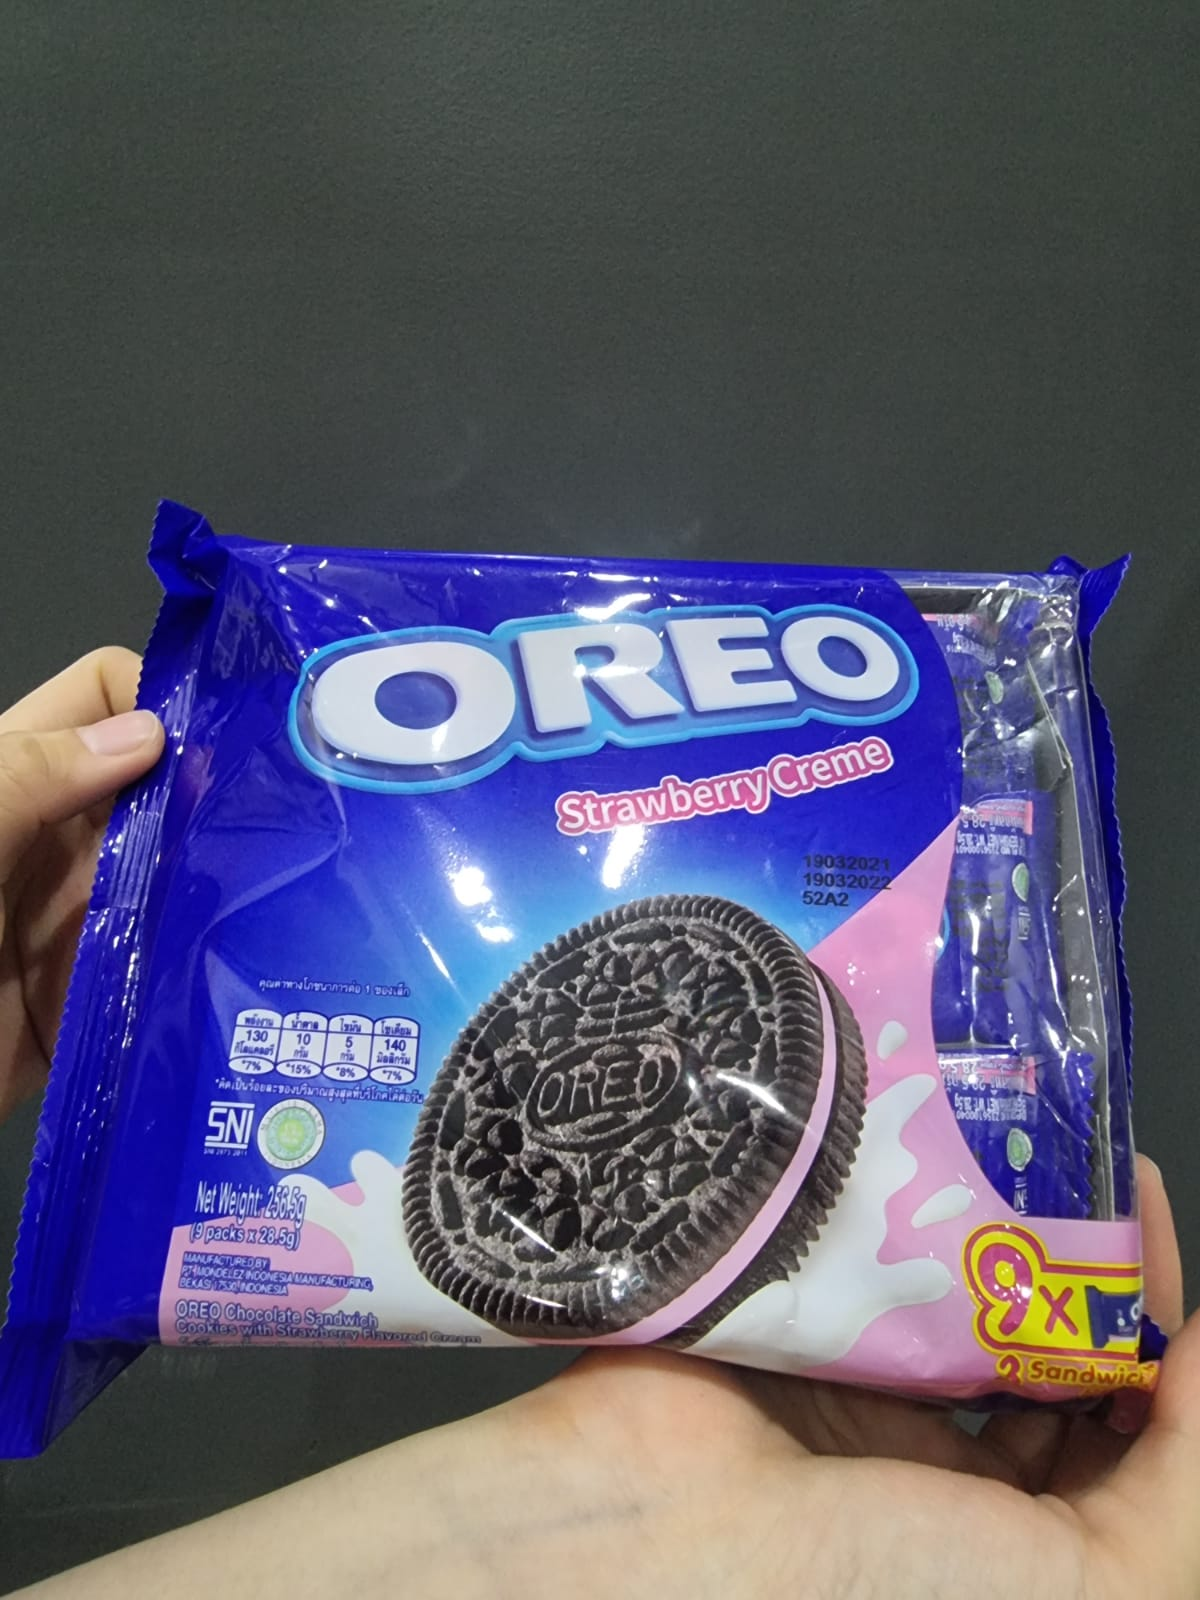Biscuits: (216, 609, 1103, 1342)
